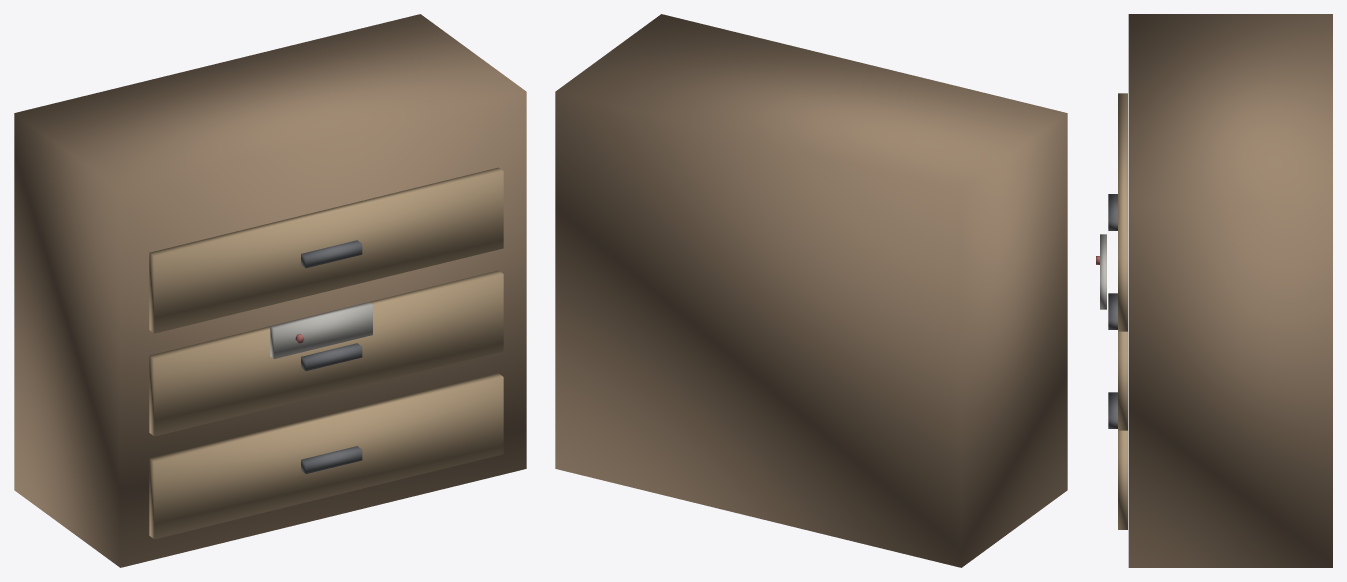
Rendered from motel_dresser__tall.glb.
3 renders of one model, left to right at view 1: azimuth 30°, elevation 25°; view 2: azimuth 150°, elevation 25°; view 3: azimuth 270°, elevation 25°, orthographic. The views are drawn at different scales.
Parts seen in each view (by area): view 1: world; view 2: world; view 3: world.
Part boxes in pixels (x1=…): world: x1=14, y1=14, x2=526, y2=567; world: x1=555, y1=14, x2=1067, y2=567; world: x1=1096, y1=14, x2=1332, y2=567.
Bounding box in the file's own units: 1.15 × 1.02 × 0.6035.
